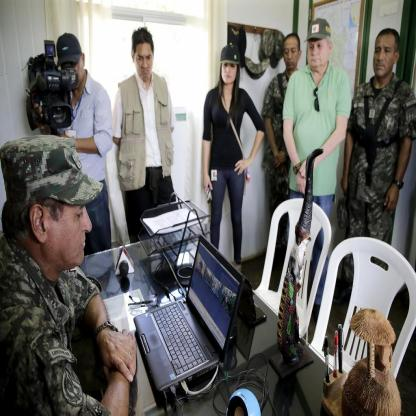board: (129, 231, 244, 407)
